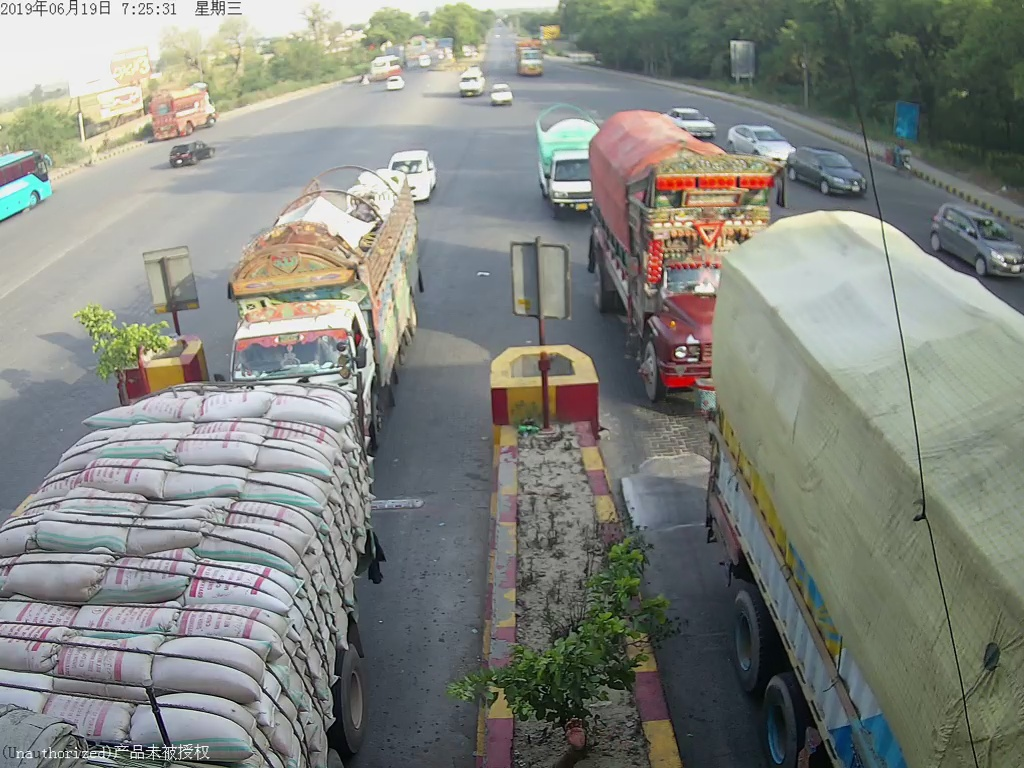Cat-4: (212, 195, 422, 366), (584, 133, 707, 392)
